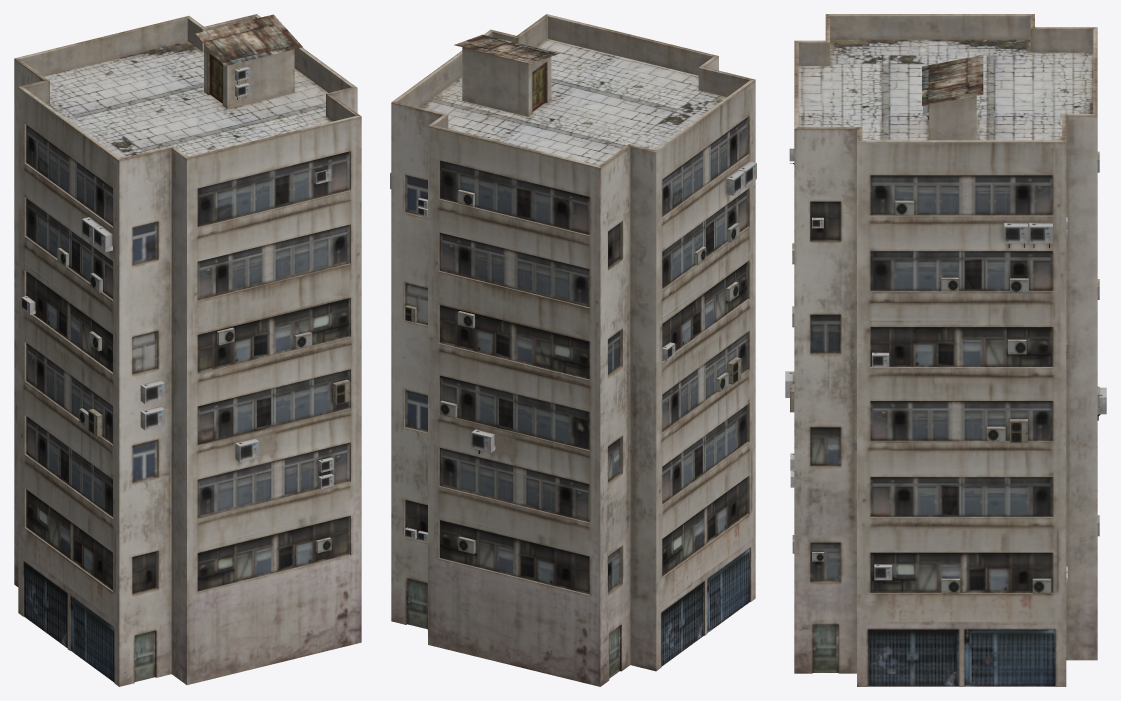
Rendered from house.fbx.
3 renders of one model, left to right at view 1: azimuth 30°, elevation 25°; view 2: azimuth 150°, elevation 25°; view 3: azimuth 270°, elevation 25°, orthographic. The views are drawn at different scales.
Visible parts, largest first — view 1: polySurface481; view 2: polySurface481; view 3: polySurface481.
Part boxes in pixels (<box>): polySurface481: <box>14,14,361,686</box>; polySurface481: <box>390,14,756,686</box>; polySurface481: <box>785,14,1106,686</box>.
Size of the model in its own units: 287 by 572 by 287.
